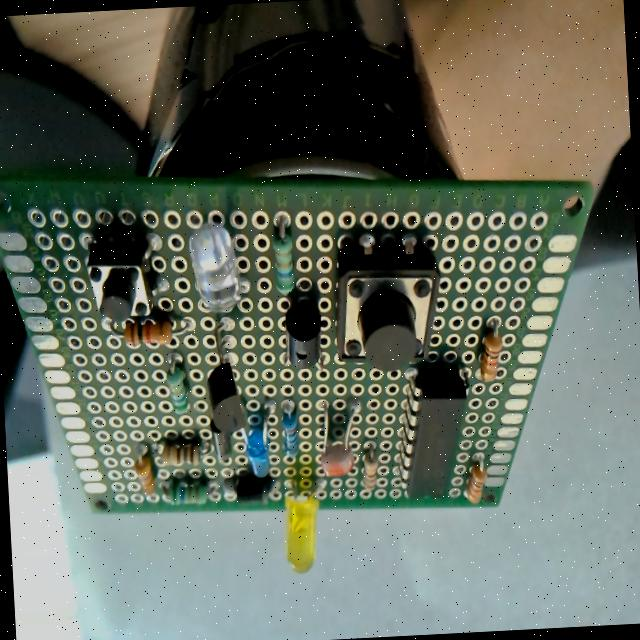IC: (398, 366, 474, 501)
cds: (318, 399, 362, 478)
diode: (224, 474, 280, 507)
led: (187, 220, 243, 315), (282, 483, 332, 574), (245, 412, 272, 479)
resistor: (110, 312, 194, 352), (272, 216, 296, 294), (479, 325, 505, 382), (158, 438, 202, 468), (168, 478, 210, 507), (167, 364, 190, 414), (280, 402, 300, 458), (464, 462, 488, 504), (134, 455, 156, 497), (362, 448, 381, 490)
switch: (332, 240, 446, 376), (87, 237, 155, 329)
transistor: (201, 317, 247, 461), (281, 295, 324, 371)
